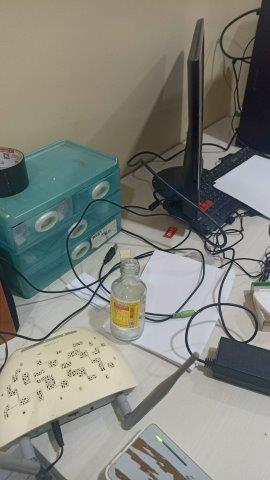botolkaca: (110, 257, 146, 343)
kertas: (101, 249, 236, 376), (215, 153, 269, 220)
